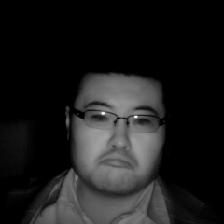sad: (56, 50, 183, 207)
